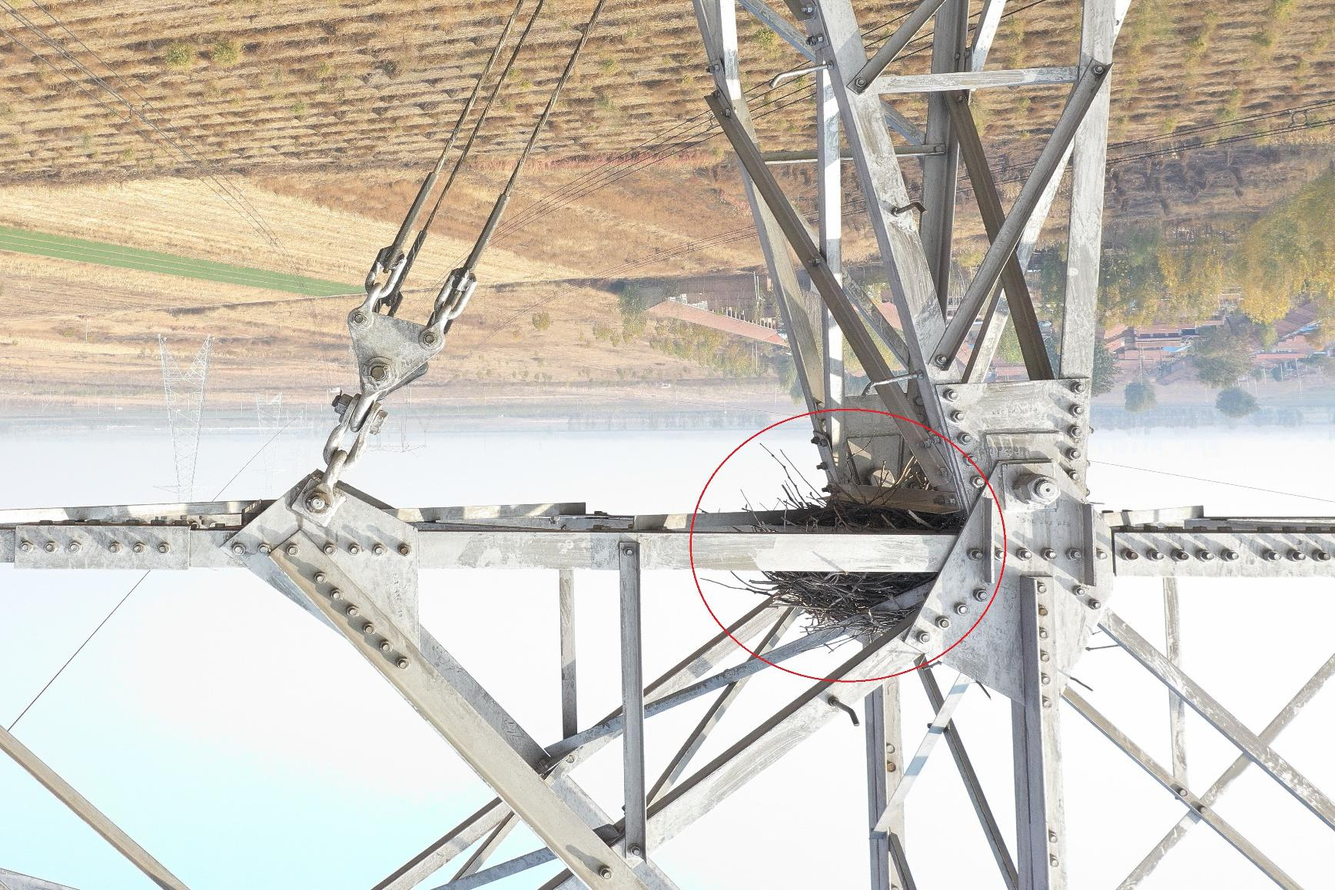nest: (731, 447, 954, 653)
